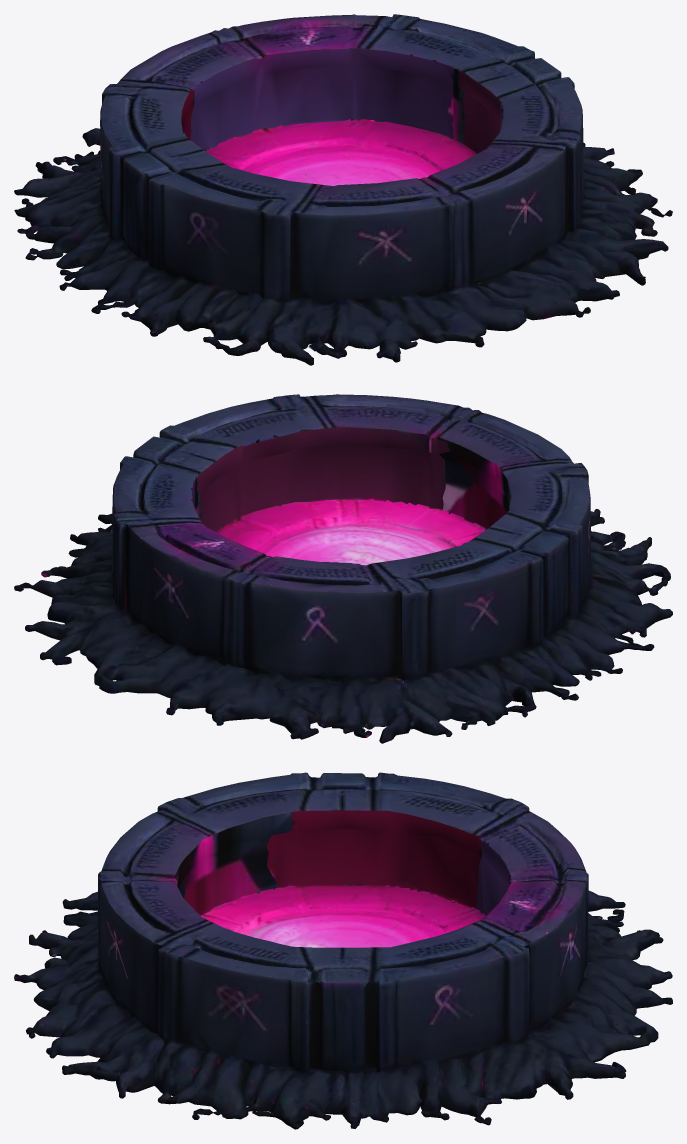
The model's file is well-dais-generated-2026-05-17T17-44-58-015Z.low.glb.
The picture shows the model from 3 angles, top to bottom: view 1: azimuth 30°, elevation 25°; view 2: azimuth 150°, elevation 25°; view 3: azimuth 270°, elevation 25°; orthographic projection. The views are drawn at different scales.
Visible parts, largest first — view 1: temp_mesh.ply; view 2: temp_mesh.ply; view 3: temp_mesh.ply.
Boxes of the visible parts, x1,y1,x2,y2 form: temp_mesh.ply: [14, 14, 672, 365]; temp_mesh.ply: [14, 394, 672, 743]; temp_mesh.ply: [14, 772, 672, 1129].
Bounding box in the file's own units: 1.97 × 0.3906 × 1.97.
Materials: 1 (1 with a texture image).
